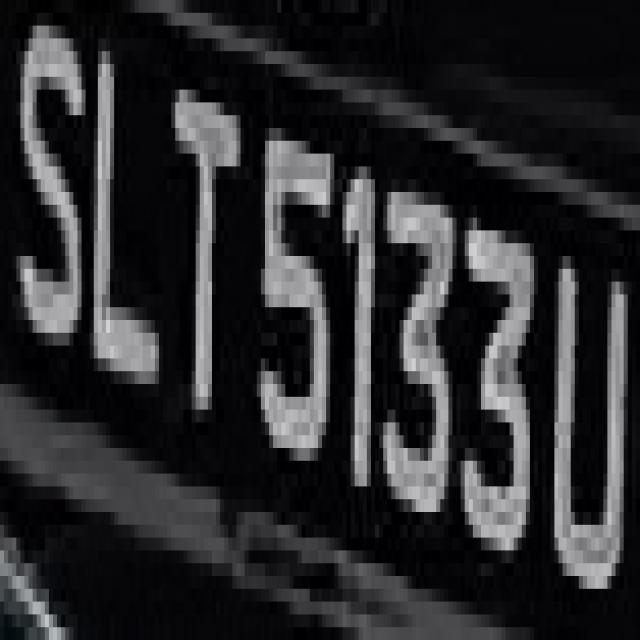1: (342, 102, 388, 512)
3: (457, 154, 538, 588), (375, 128, 457, 499)
5: (257, 102, 342, 474)
L: (86, 38, 171, 410)
S: (12, 13, 86, 384)
T: (159, 64, 240, 474)
U: (538, 166, 632, 576)
